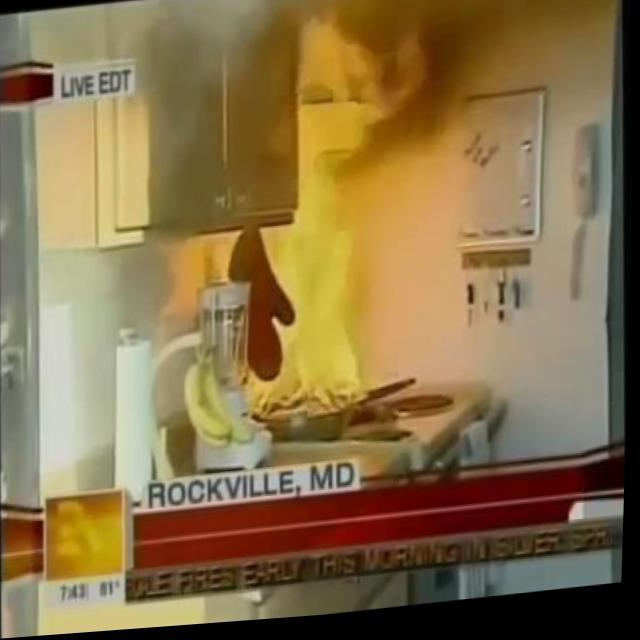fire: (236, 147, 390, 433)
